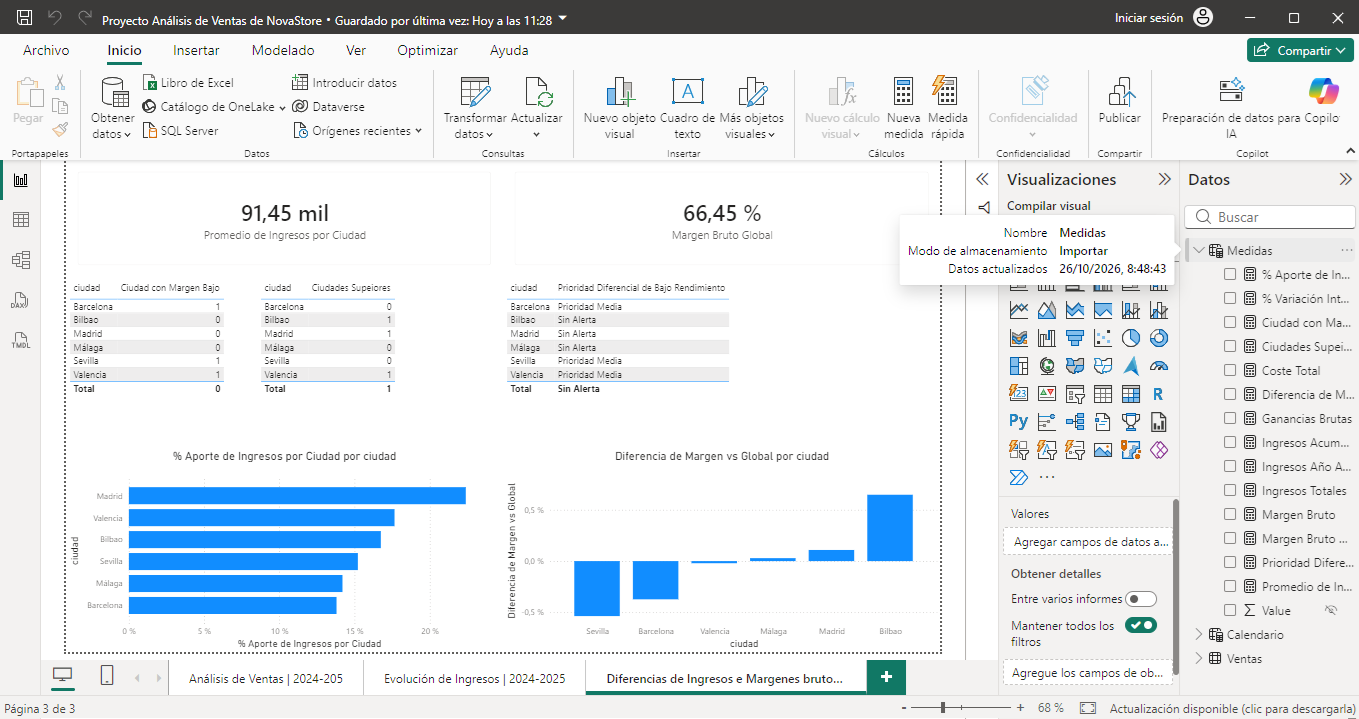

Layout of this report page (visuals, bound fields, positions):
{"tool":"powerbi","page":{"name":"Diferencias de Ingresos e Margenes brutos | Ciudades","canvas":[1280,720],"ordinal":2},"visuals":[{"type":"clusteredBarChart","fields":{"Y":["Medidas.% Aporte de Ingresos por Ciudad"],"Category":["Ventas.ciudad"]},"box":[0,422.9,639.5,297.1],"z":0},{"type":"cardVisual","fields":{"Data":["Medidas.Promedio de Ingresos por Ciudad"]},"box":[0,0,639.5,171.2],"z":3000},{"type":"tableEx","fields":{"Values":["Ventas.ciudad","Medidas.Ciudad con Margen Bajo"]},"box":[0,171.2,301.5,251.7],"z":4000},{"type":"tableEx","fields":{"Values":["Ventas.ciudad","Medidas.Ciudades Supeiores"]},"box":[279.5,171.2,360,251.7],"z":5000},{"type":"clusteredColumnChart","fields":{"Y":["Medidas.Diferencia de Margen vs Global"],"Category":["Ventas.ciudad"]},"box":[639.5,422.9,641,297.1],"z":6000},{"type":"cardVisual","fields":{"Data":["Medidas.Margen Bruto Global"]},"box":[639.5,0,641,171.2],"z":7000},{"type":"tableEx","fields":{"Values":["Ventas.ciudad","Medidas.Prioridad Diferencial de Bajo Rendimiento"]},"box":[639.5,171.2,641,245.9],"z":8000}]}

Visuals, with their boxes on the page's 1280x720 design canvas (x1, y1, x2, y2). These are canvas units, not pixel positions in the 1359x719 screenshot, which may show the page scaled, cropped or inside an application window:
clusteredBarChart - Medidas.% Aporte de Ingresos por Ciudad x Ventas.ciudad: x1=0, y1=423, x2=640, y2=720
cardVisual - Medidas.Promedio de Ingresos por Ciudad: x1=0, y1=0, x2=640, y2=171
tableEx - Ventas.ciudad x Medidas.Ciudad con Margen Bajo: x1=0, y1=171, x2=302, y2=423
tableEx - Ventas.ciudad x Medidas.Ciudades Supeiores: x1=280, y1=171, x2=640, y2=423
clusteredColumnChart - Medidas.Diferencia de Margen vs Global x Ventas.ciudad: x1=640, y1=423, x2=1280, y2=720
cardVisual - Medidas.Margen Bruto Global: x1=640, y1=0, x2=1280, y2=171
tableEx - Ventas.ciudad x Medidas.Prioridad Diferencial de Bajo Rendimiento: x1=640, y1=171, x2=1280, y2=417
